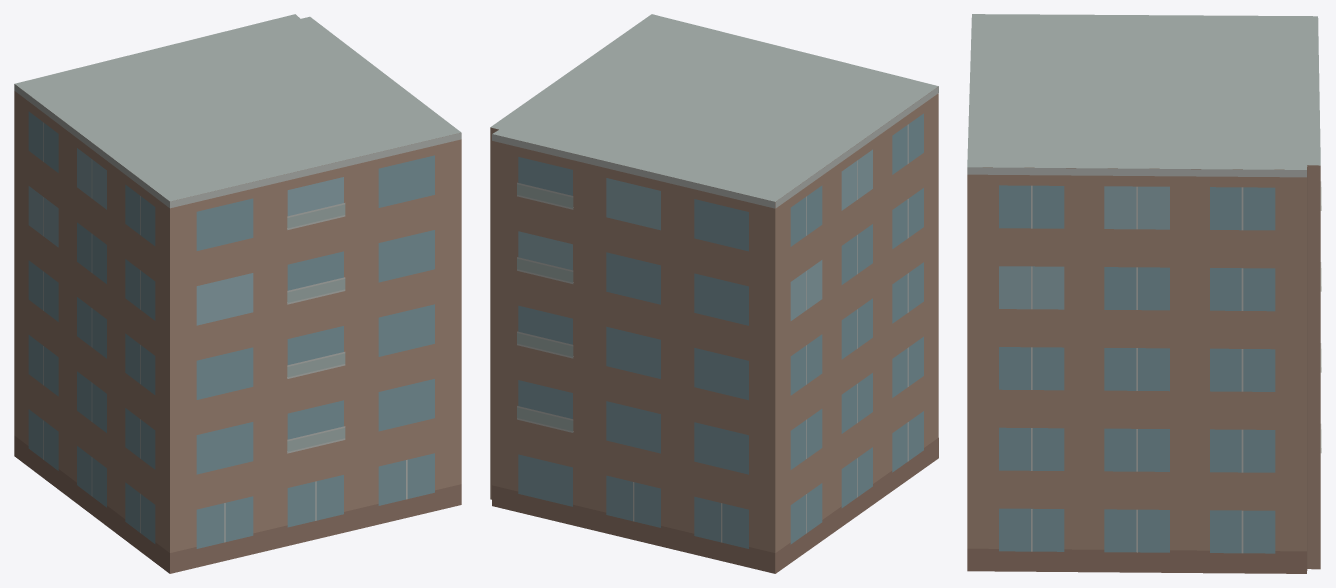
Rendered from survey-upis-32746539.glb.
The picture shows the model from 3 angles, left to right: view 1: azimuth 30°, elevation 25°; view 2: azimuth 150°, elevation 25°; view 3: azimuth 270°, elevation 25°; orthographic projection. The views are drawn at different scales.
Parts seen in each view (by area): view 1: survey-upis-32746539.tmp; view 2: survey-upis-32746539.tmp; view 3: survey-upis-32746539.tmp.
Boxes of the visible parts, x1,y1,x2,y2 form: survey-upis-32746539.tmp: [14, 14, 461, 573]; survey-upis-32746539.tmp: [490, 14, 938, 573]; survey-upis-32746539.tmp: [967, 14, 1321, 573].
Size of the model in its own units: 11.02 by 13.3 by 10.59.
